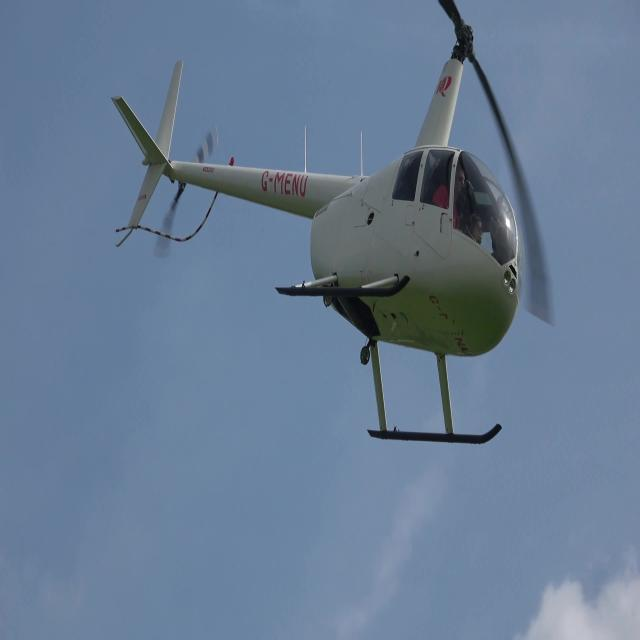CIV_HELO: (111, 18, 528, 446)
